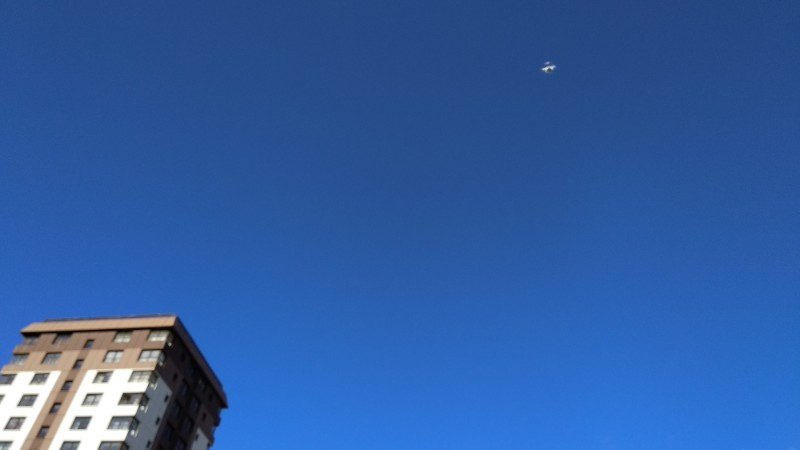drone: (538, 59, 556, 73)
